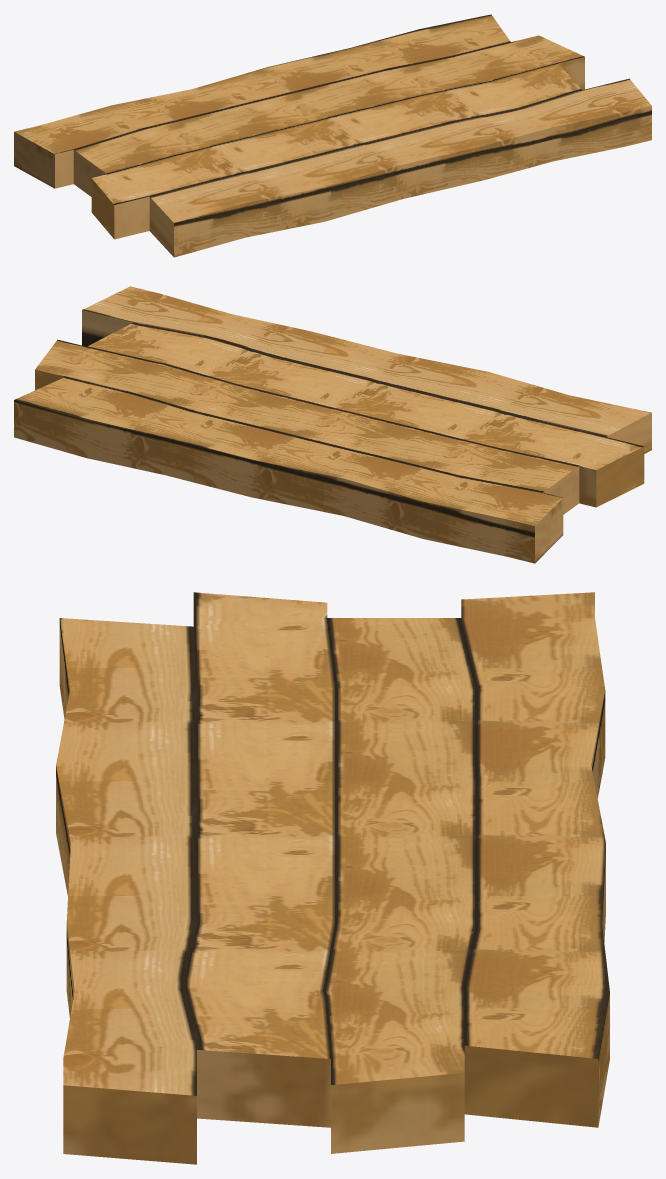
File: woodPlatformMedium.fbx
3 views of the same model, one above another, from view 1: azimuth 30°, elevation 25°; view 2: azimuth 150°, elevation 25°; view 3: azimuth 270°, elevation 25° (orthographic). The views are drawn at different scales.
Parts seen in each view (by area): view 1: pCube28; view 2: pCube28; view 3: pCube28.
Part boxes in pixels (x1,y1,x2,y2): pCube28: (14, 14, 651, 257); pCube28: (14, 286, 651, 563); pCube28: (56, 592, 609, 1164).
Size of the model in its own units: 3.15 by 0.2006 by 1.46.
